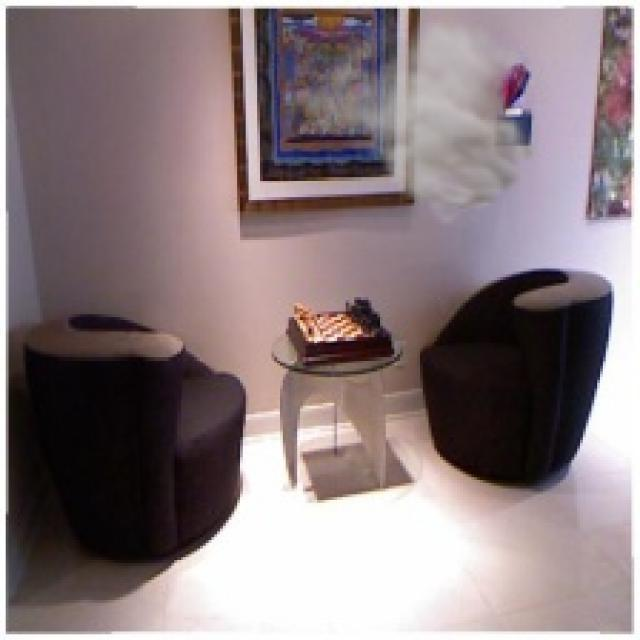Smoke: (286, 8, 558, 228)
